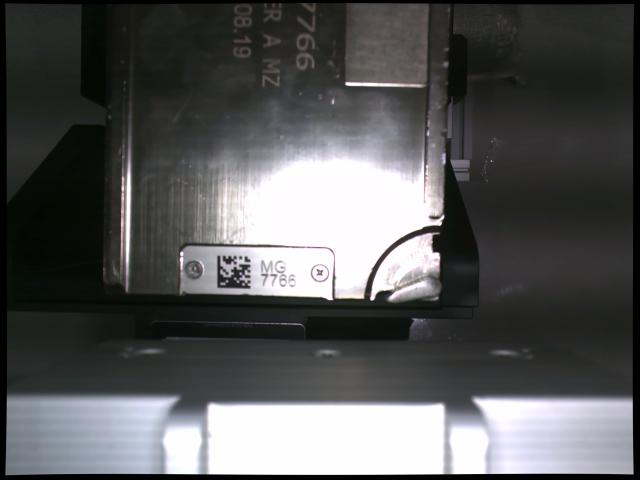jig_latch: (387, 277, 441, 303)
